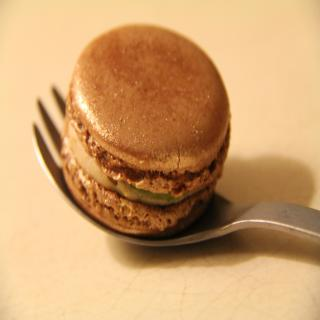Pancake: (62, 23, 227, 235)
